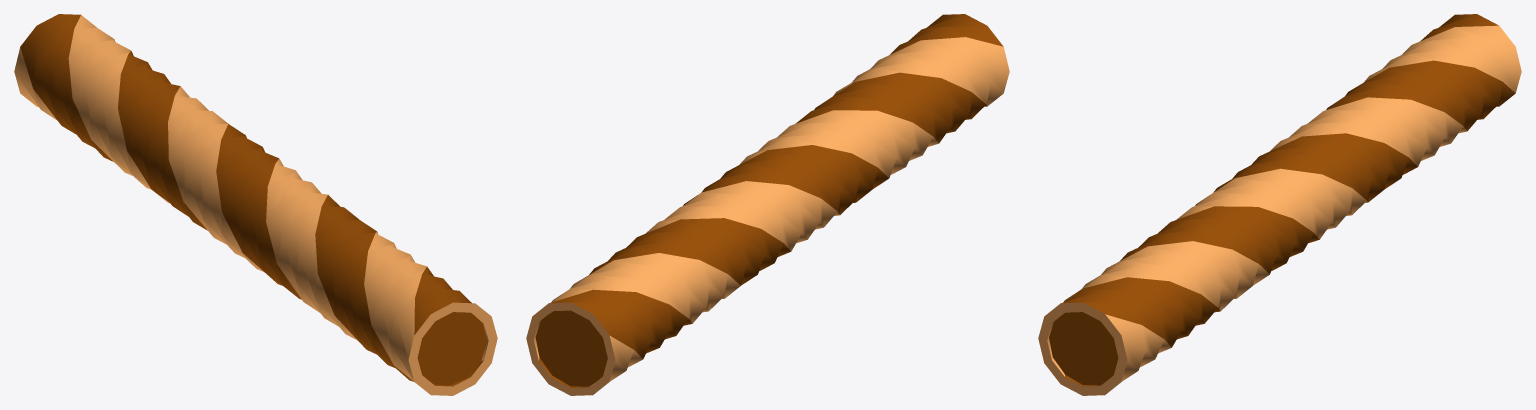
File: Wafer Roll Brown.fbx
3 renders of one model, left to right at view 1: azimuth 30°, elevation 25°; view 2: azimuth 150°, elevation 25°; view 3: azimuth 330°, elevation 25°, orthographic.
Visible parts, largest first — view 1: Wafer Roll Brown; view 2: Wafer Roll Brown; view 3: Wafer Roll Brown.
Boxes of the visible parts, x1,y1,x2,y2 form: Wafer Roll Brown: (14,14,497,395); Wafer Roll Brown: (526,14,1009,395); Wafer Roll Brown: (1038,14,1521,395).
Size of the model in its own units: 0.1 by 0.1 by 0.7649.
